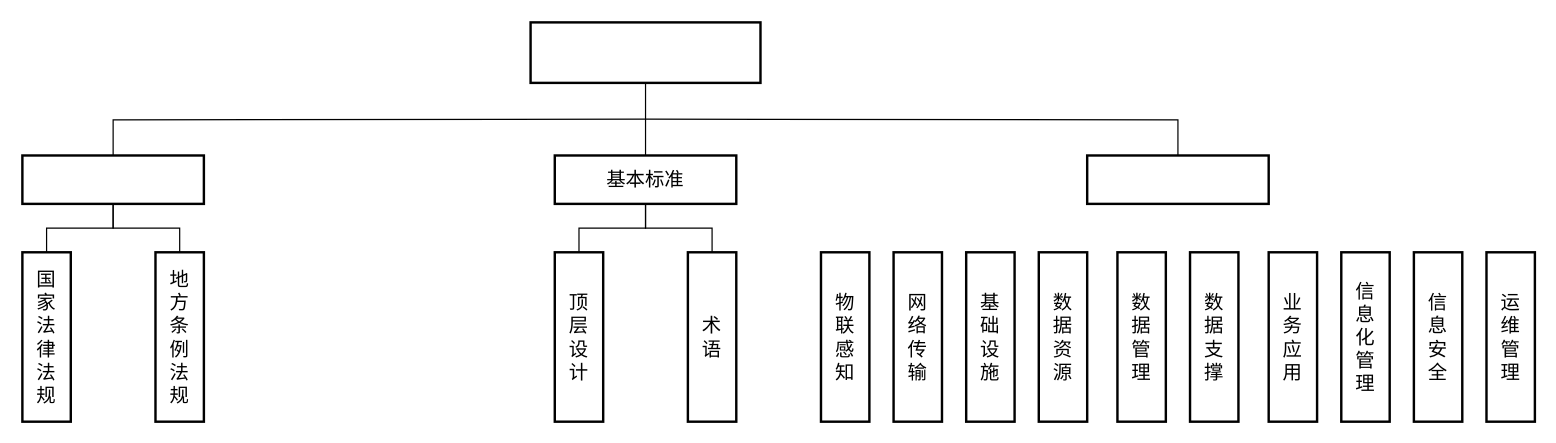
This 1556x443 diagram has some shape labels left out. Each missing label, with the centre of its shape:
"专用标准" goes at (1177,179).
"政策法规" goes at (112,179).
"长江大保护时空大数据云平台标准评价体系" goes at (645,52).
